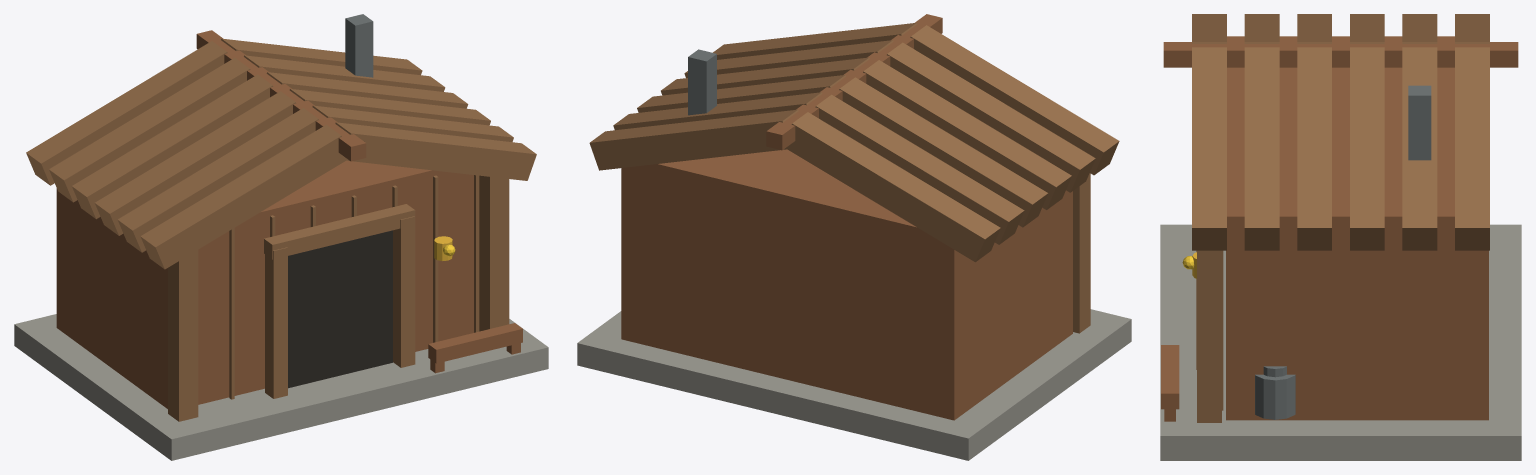
Rendered from board_barracao.glb.
3 views of the same model, side by side, from view 1: azimuth 30°, elevation 25°; view 2: azimuth 150°, elevation 25°; view 3: azimuth 270°, elevation 25° (orthographic). The views are drawn at different scales.
Visible parts, largest first — view 1: board_barracao; view 2: board_barracao; view 3: board_barracao.
Boxes of the visible parts, left/top/right/bottom form: board_barracao: left=14, top=14, right=548, bottom=460; board_barracao: left=577, top=14, right=1131, bottom=460; board_barracao: left=1160, top=14, right=1521, bottom=460.
Size of the model in its own units: 7 by 5 by 5.
